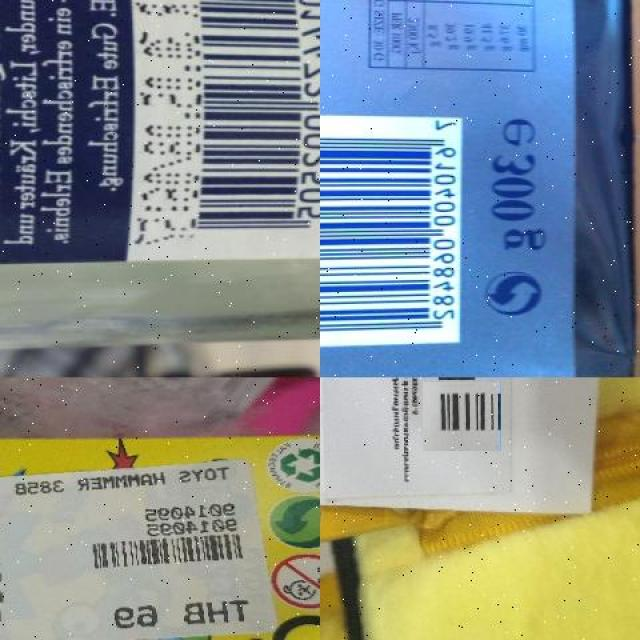Barcode: (120, 0, 320, 257), (320, 113, 457, 348), (78, 517, 254, 578), (425, 379, 499, 453)
